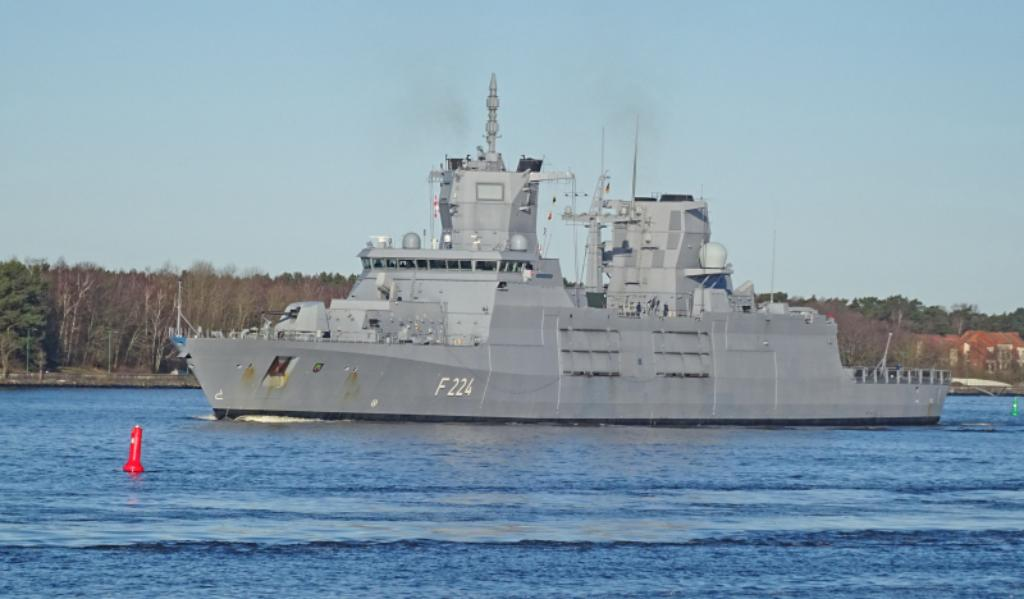Warship: (162, 52, 958, 432)
